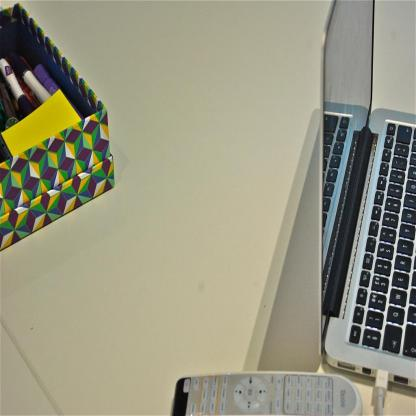board: (320, 0, 416, 389)
